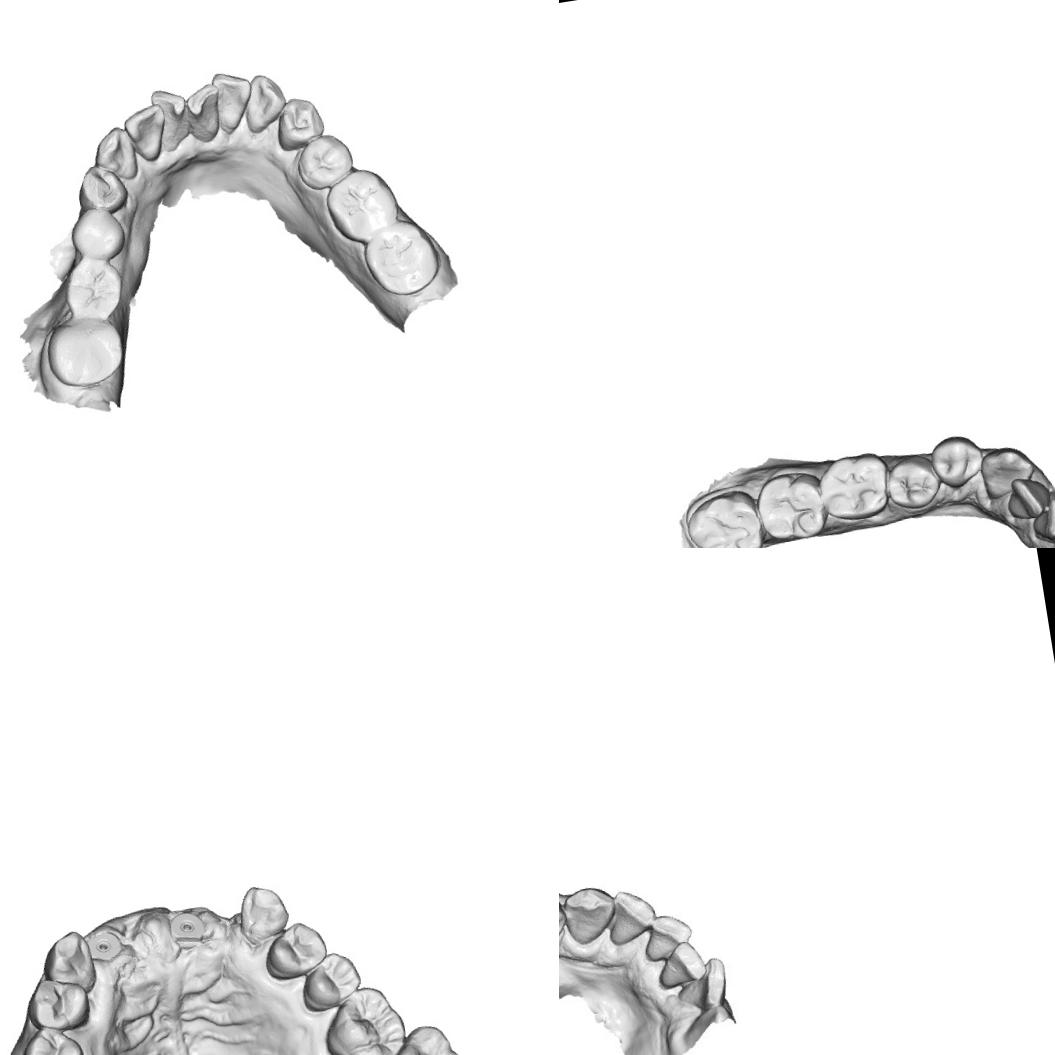canine: (258, 917, 332, 984), (36, 928, 100, 1000), (975, 439, 1040, 506), (560, 882, 621, 950), (238, 69, 291, 136), (89, 124, 140, 184)
implant: (166, 906, 209, 948), (84, 926, 125, 966)
incisor: (233, 880, 294, 948), (668, 958, 736, 1016), (210, 67, 260, 136), (121, 102, 172, 165), (636, 908, 694, 963), (603, 885, 657, 944), (148, 85, 193, 154), (1002, 470, 1055, 526), (652, 942, 706, 994), (182, 81, 226, 144), (1028, 493, 1055, 543)
molar: (358, 214, 446, 301), (320, 162, 404, 250), (42, 310, 130, 392), (316, 980, 412, 1055), (751, 466, 832, 548), (814, 447, 896, 525), (680, 485, 767, 548), (57, 254, 128, 328), (374, 1018, 471, 1055)
premolar: (295, 948, 366, 1015), (21, 972, 94, 1036), (292, 129, 358, 193), (880, 449, 944, 514), (66, 203, 129, 266), (924, 430, 986, 492), (72, 160, 132, 218), (271, 94, 328, 154), (19, 1020, 88, 1055)
